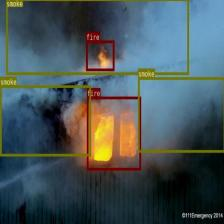fire: (86, 96, 140, 170), (86, 41, 114, 70)
smoke: (6, 0, 188, 74), (137, 77, 224, 152), (0, 84, 90, 155)
